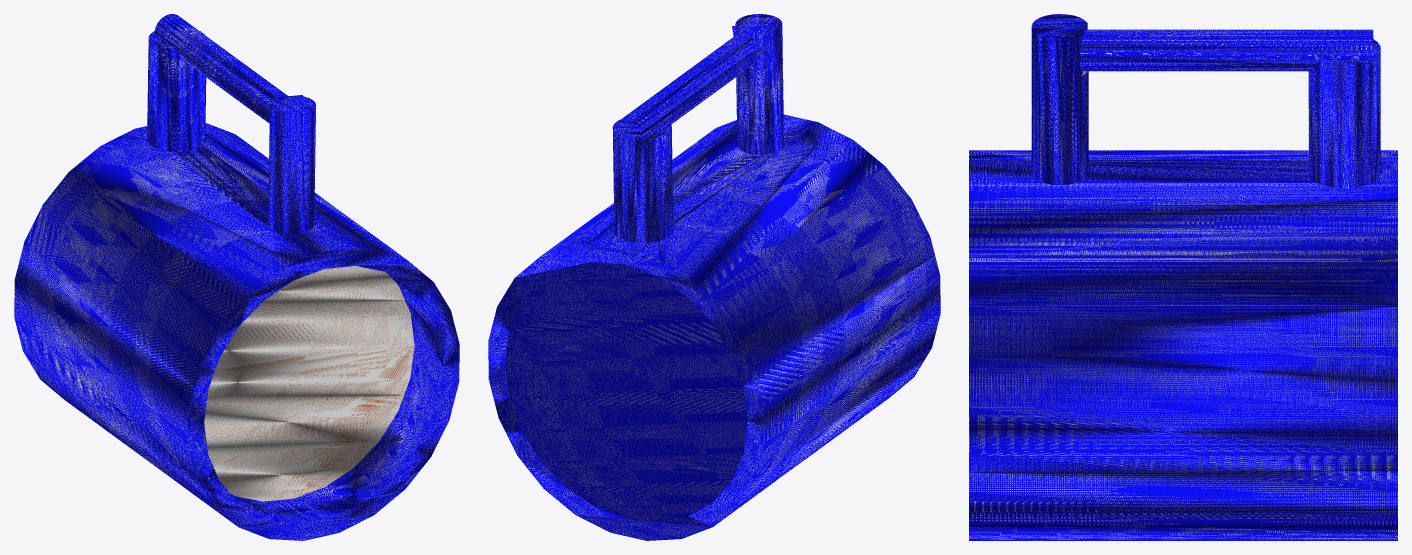
Rendered from model_align.obj.
3 renders of one model, left to right at view 1: azimuth 30°, elevation 25°; view 2: azimuth 150°, elevation 25°; view 3: azimuth 270°, elevation 25°, orthographic. The views are drawn at different scales.
Bounding box in the file's own units: 0.0795 × 0.1136 × 0.0877.
